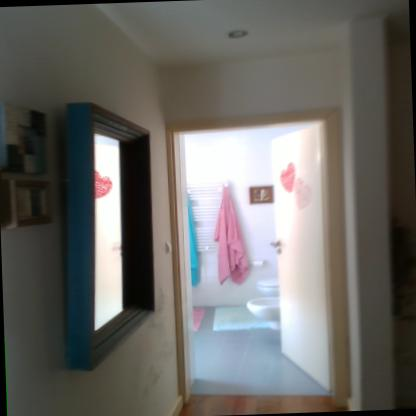open: (151, 85, 370, 416)
